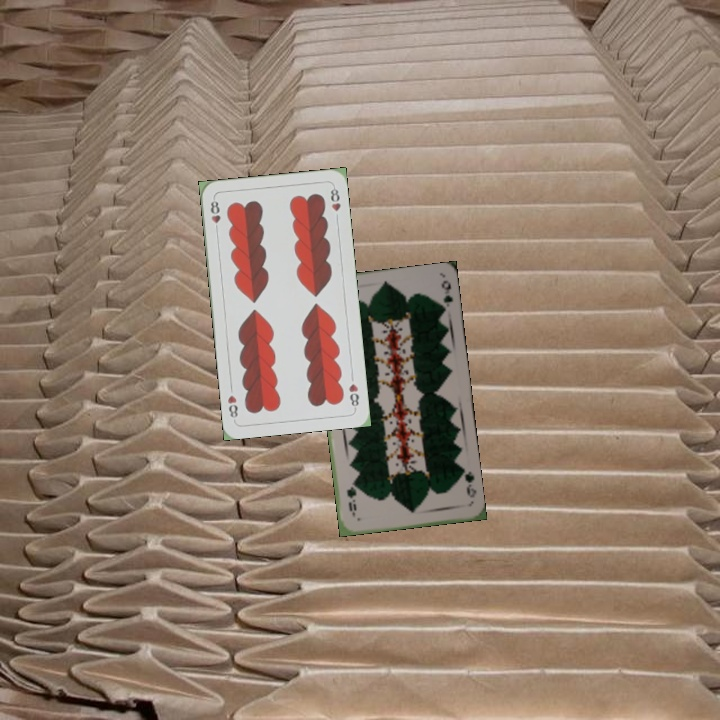G9: (457, 465, 479, 500)
H8: (207, 195, 223, 235), (345, 380, 361, 411)
